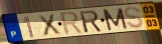1: (23, 15, 35, 39)
M: (101, 7, 129, 32)
R: (59, 10, 85, 37), (78, 9, 104, 35)
S: (124, 6, 145, 30)
X: (37, 13, 63, 37)
